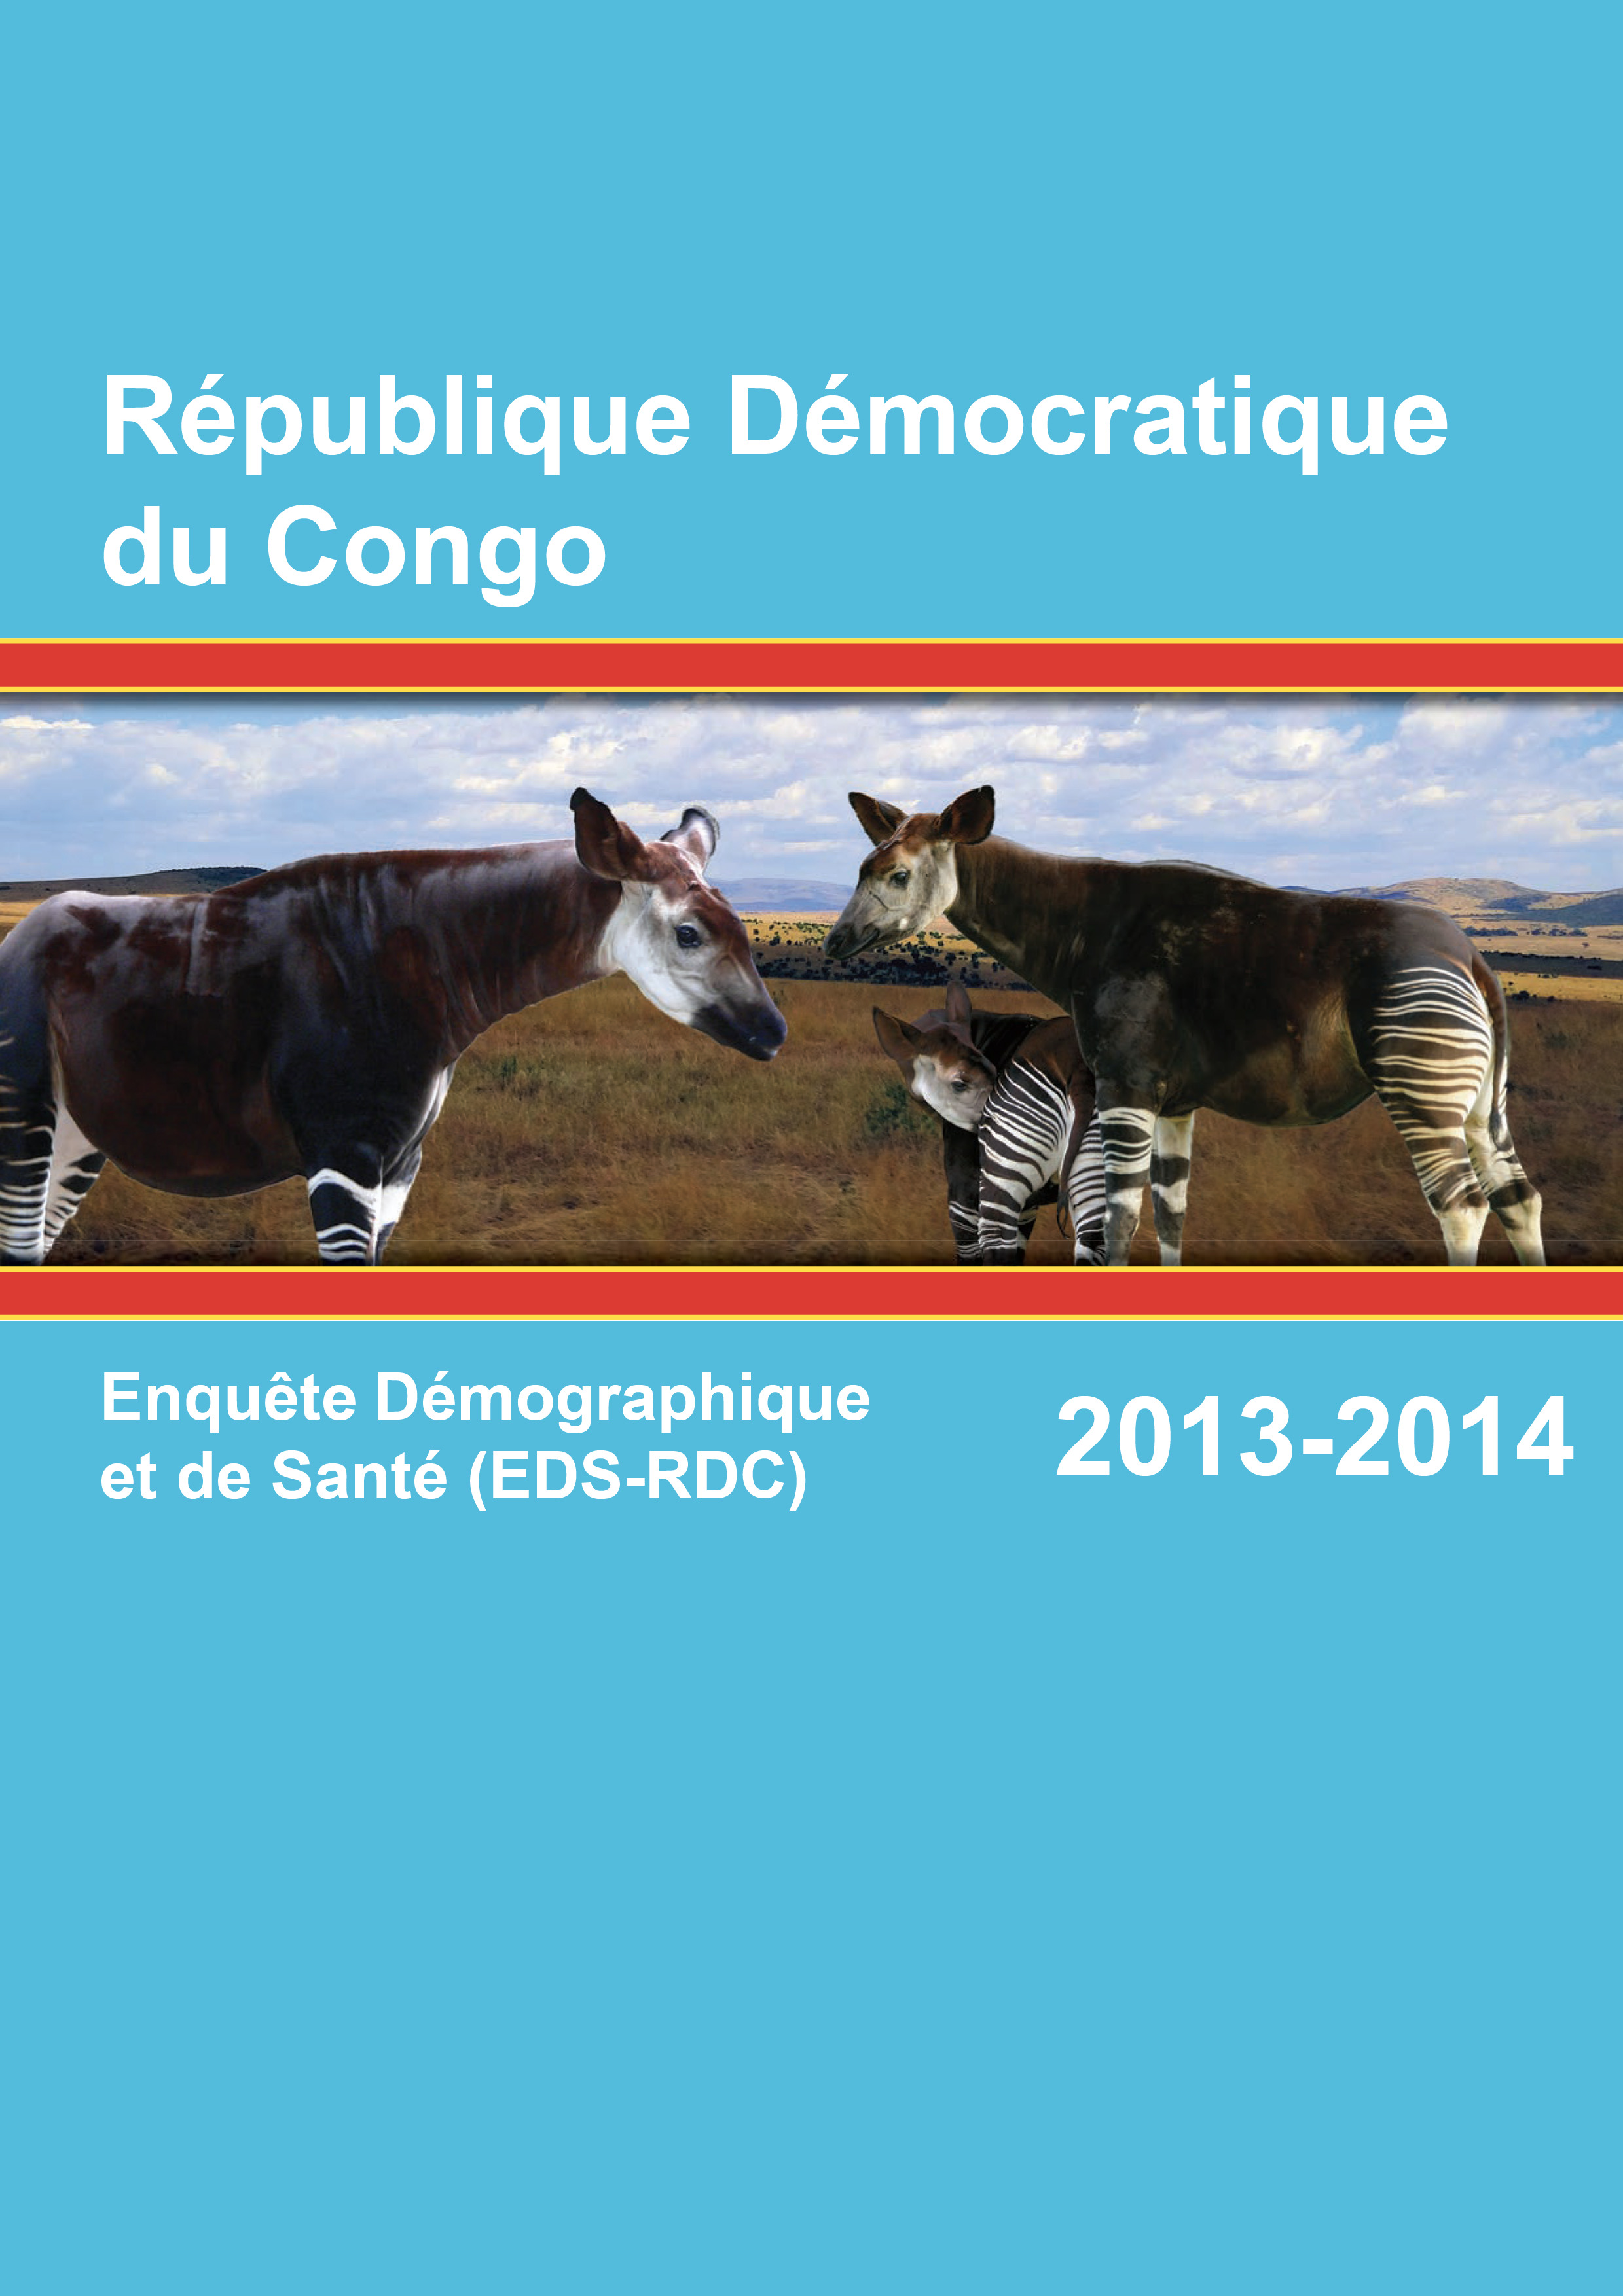figure: (4, 697, 1614, 1243)
section: (84, 346, 1460, 623), (987, 1401, 1607, 1501)
text: (91, 1352, 906, 1539)
